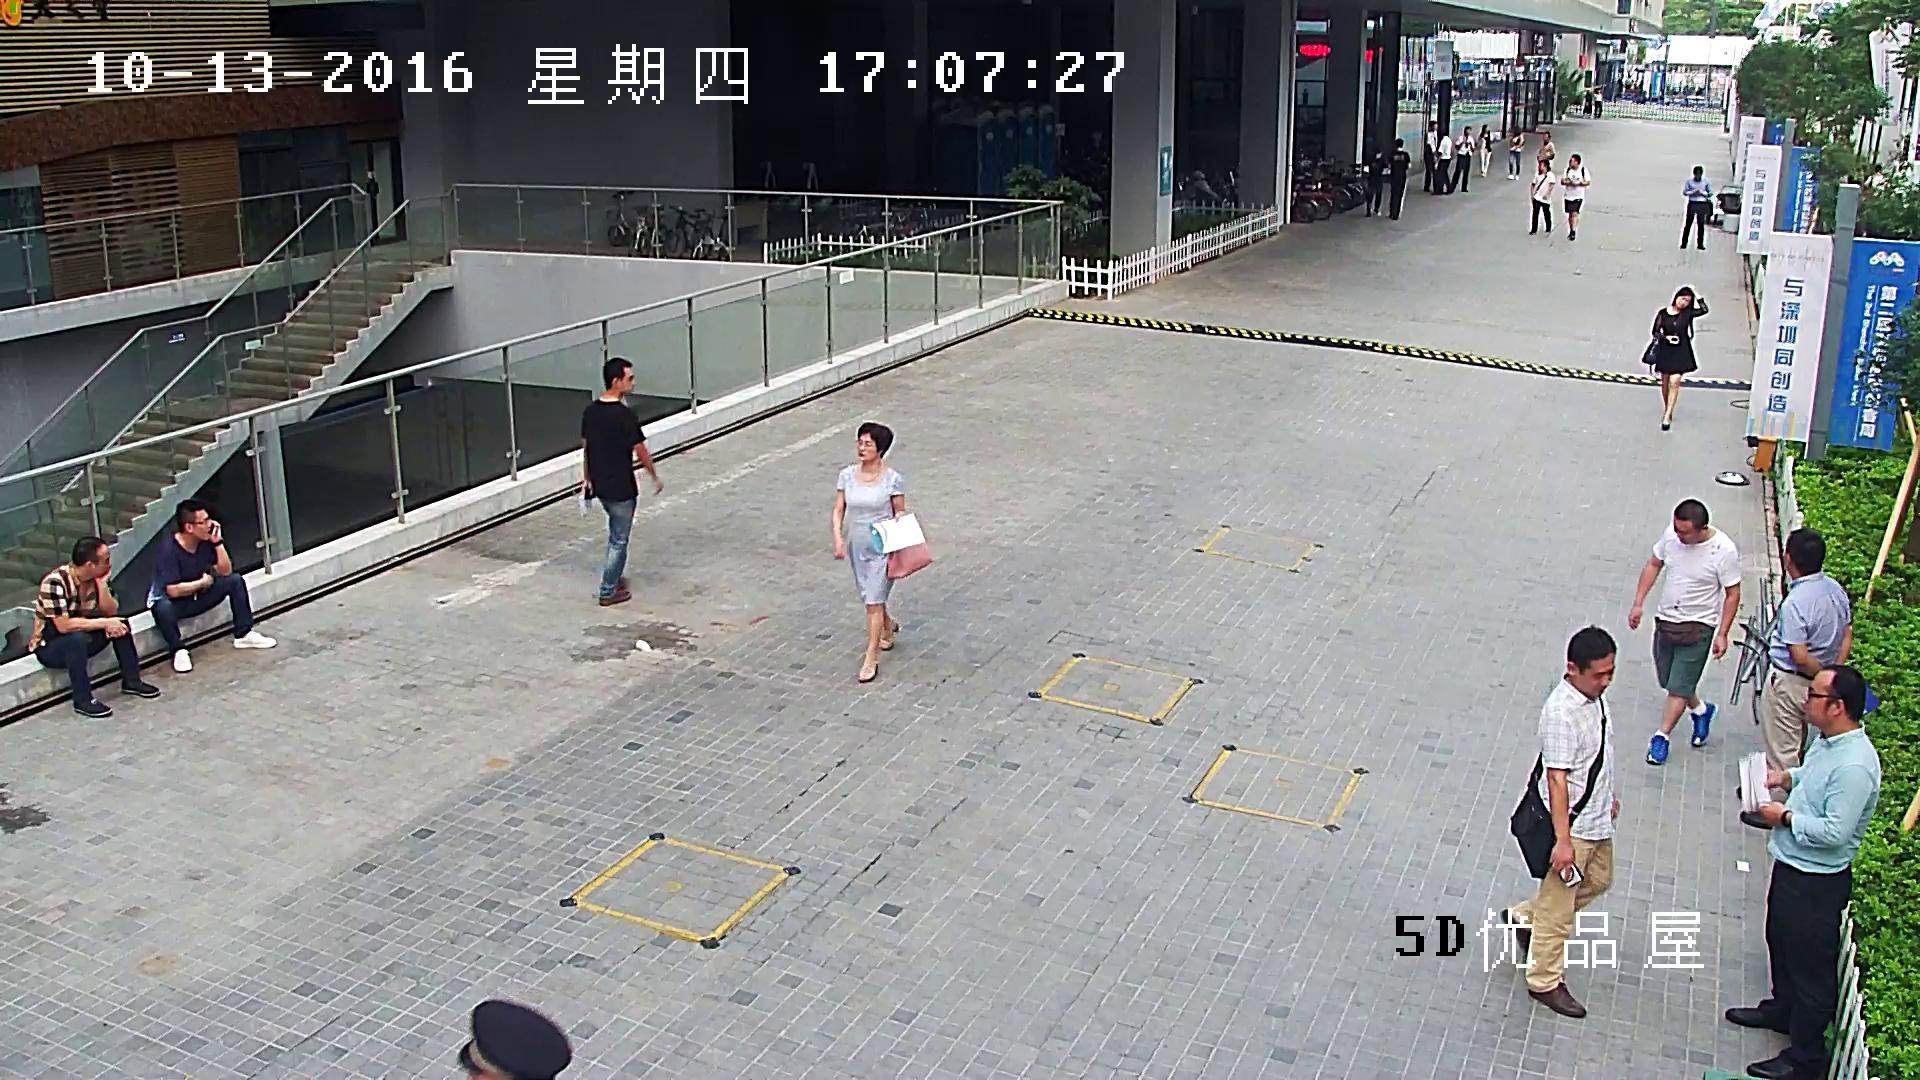person: (1725, 665, 1881, 1080), (1502, 626, 1619, 1017), (1736, 528, 1851, 829), (1628, 499, 1745, 764), (831, 422, 932, 683), (28, 536, 160, 716), (144, 499, 277, 671), (578, 357, 664, 605), (1642, 286, 1709, 430), (1680, 166, 1712, 250), (1561, 153, 1590, 240), (1529, 158, 1555, 235), (1449, 126, 1475, 192), (1364, 150, 1388, 216), (1388, 138, 1409, 220), (1429, 129, 1451, 195), (1506, 127, 1524, 180), (1424, 121, 1437, 192), (1477, 124, 1494, 177), (1536, 131, 1555, 174), (1594, 87, 1603, 118), (1583, 90, 1592, 115)
